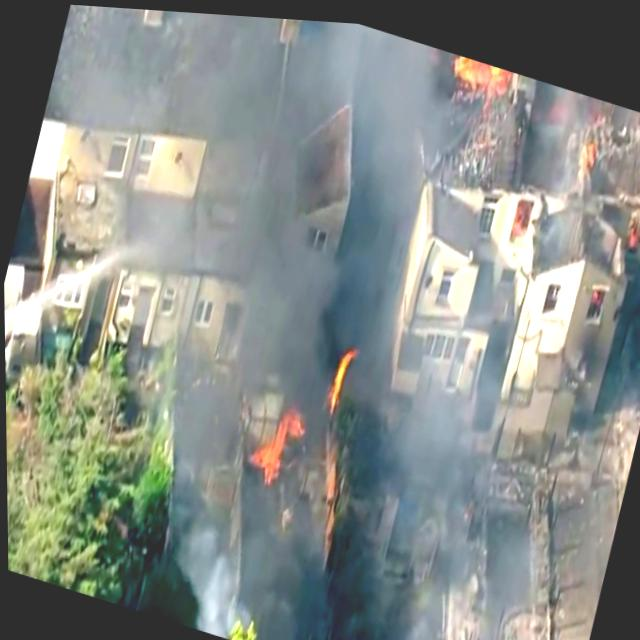fire: (452, 48, 531, 90)
